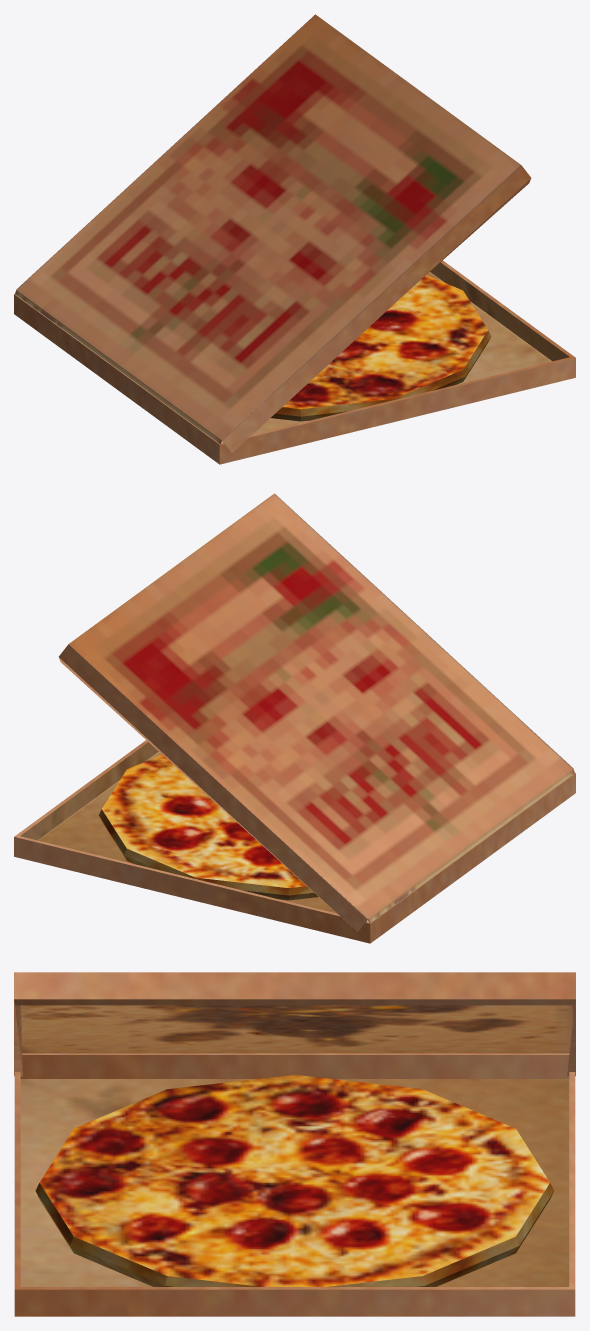
Rendered from pizza_box_semi_close_with_pizza.obj.
The picture shows the model from 3 angles, top to bottom: view 1: azimuth 30°, elevation 25°; view 2: azimuth 150°, elevation 25°; view 3: azimuth 270°, elevation 25°; orthographic projection. The views are drawn at different scales.
Parts seen in each view (by area): view 1: pizza_box_semi_close_with_pizza; view 2: pizza_box_semi_close_with_pizza; view 3: pizza_box_semi_close_with_pizza.
Boxes of the visible parts, x1,y1,x2,y2 form: pizza_box_semi_close_with_pizza: (14,14,575,464); pizza_box_semi_close_with_pizza: (14,493,575,943); pizza_box_semi_close_with_pizza: (14,972,575,1316).
Size of the model in its own units: 0.5276 by 0.3198 by 0.5286.
